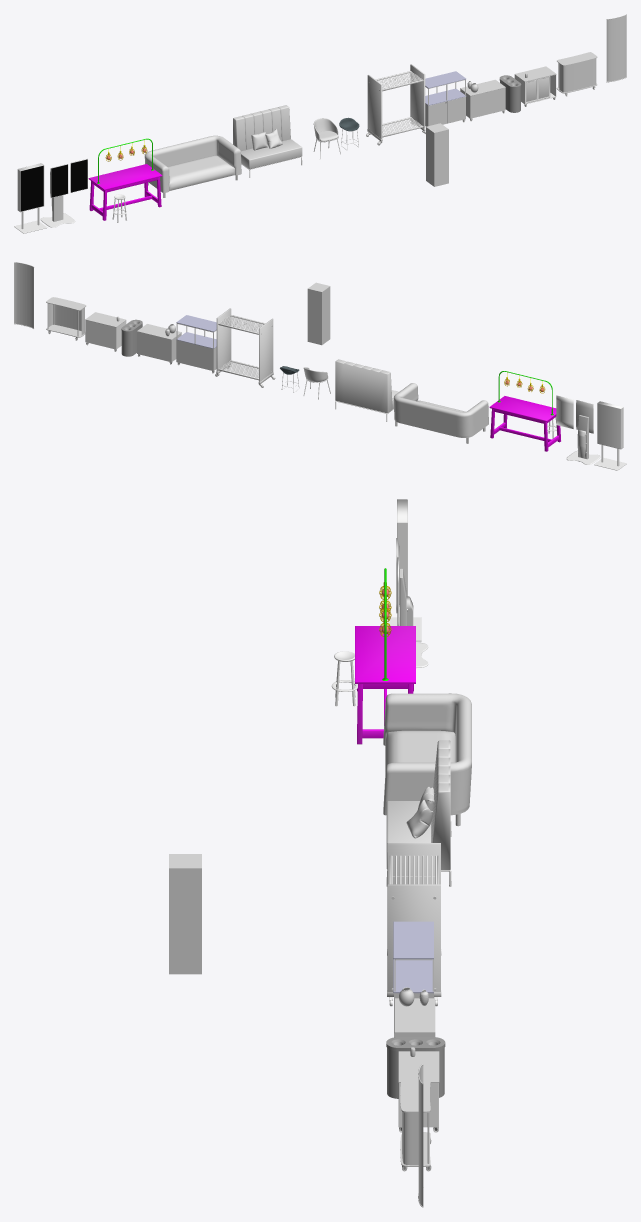
Rendered from Furniture4.fbx.
3 views of the same model, one above another, from view 1: azimuth 30°, elevation 25°; view 2: azimuth 150°, elevation 25°; view 3: azimuth 270°, elevation 25° (orthographic). The views are drawn at different scales.
Parts seen in each view (by area): view 1: Sofa_2, Sofa, CoatHangers, BarTable, Stand_High, InfoStand_3, Stand_Low.002, Human_Reference, Circle.001, Stand_Low, Stand_Low.001, InfoStand (+5 smaller); view 2: Sofa_2, CoatHangers, Sofa, BarTable, Stand_High, InfoStand_3, Human_Reference, Stand_Low.002, Stand_Low, Circle.001, Stand_Low.001, InfoStand (+3 smaller); view 3: Sofa_2, CoatHangers, BarTable, Human_Reference, Sofa, Stand_High, Stand_Low.002, Stand_Low.001, TrashaBin_Metal, Stand_Low, InfoStand_3, InfoStand.
Part boxes in pixels (x1=…): Sofa_2: x1=144, y1=135, x2=241, y2=197; Sofa: x1=233, y1=105, x2=302, y2=177; CoatHangers: x1=366, y1=64, x2=425, y2=145; BarTable: x1=88, y1=138, x2=162, y2=220; Stand_High: x1=425, y1=71, x2=466, y2=126; InfoStand_3: x1=14, y1=163, x2=47, y2=233; Stand_Low.002: x1=556, y1=52, x2=597, y2=96; Human_Reference: x1=426, y1=123, x2=448, y2=186; Circle.001: x1=606, y1=14, x2=626, y2=82; Stand_Low: x1=460, y1=79, x2=505, y2=121; Stand_Low.001: x1=514, y1=66, x2=556, y2=106; InfoStand: x1=40, y1=164, x2=75, y2=227; Sofa_2: x1=393, y1=383, x2=488, y2=443; CoatHangers: x1=215, y1=308, x2=275, y2=387; Sofa: x1=335, y1=359, x2=398, y2=421; BarTable: x1=489, y1=371, x2=560, y2=451; Stand_High: x1=176, y1=315, x2=216, y2=373; InfoStand_3: x1=594, y1=401, x2=626, y2=470; Human_Reference: x1=307, y1=282, x2=330, y2=345; Stand_Low.002: x1=46, y1=297, x2=85, y2=340; Stand_Low: x1=137, y1=324, x2=181, y2=364; Circle.001: x1=14, y1=262, x2=34, y2=328; Stand_Low.001: x1=85, y1=312, x2=126, y2=351; InfoStand: x1=566, y1=400, x2=600, y2=464; Sofa_2: x1=383, y1=693, x2=471, y2=826; CoatHangers: x1=387, y1=843, x2=441, y2=1006; BarTable: x1=355, y1=568, x2=415, y2=744; Human_Reference: x1=169, y1=854, x2=201, y2=974; Sofa: x1=386, y1=740, x2=451, y2=886; Stand_High: x1=393, y1=921, x2=433, y2=1037; Stand_Low.002: x1=400, y1=1078, x2=431, y2=1171; Stand_Low.001: x1=398, y1=1051, x2=439, y2=1132; TrashaBin_Metal: x1=386, y1=1037, x2=445, y2=1098; Stand_Low: x1=394, y1=998, x2=435, y2=1037; InfoStand_3: x1=383, y1=499, x2=421, y2=641; InfoStand: x1=396, y1=538, x2=428, y2=667.
Size of the model in its own units: 2083 by 211 by 453.
